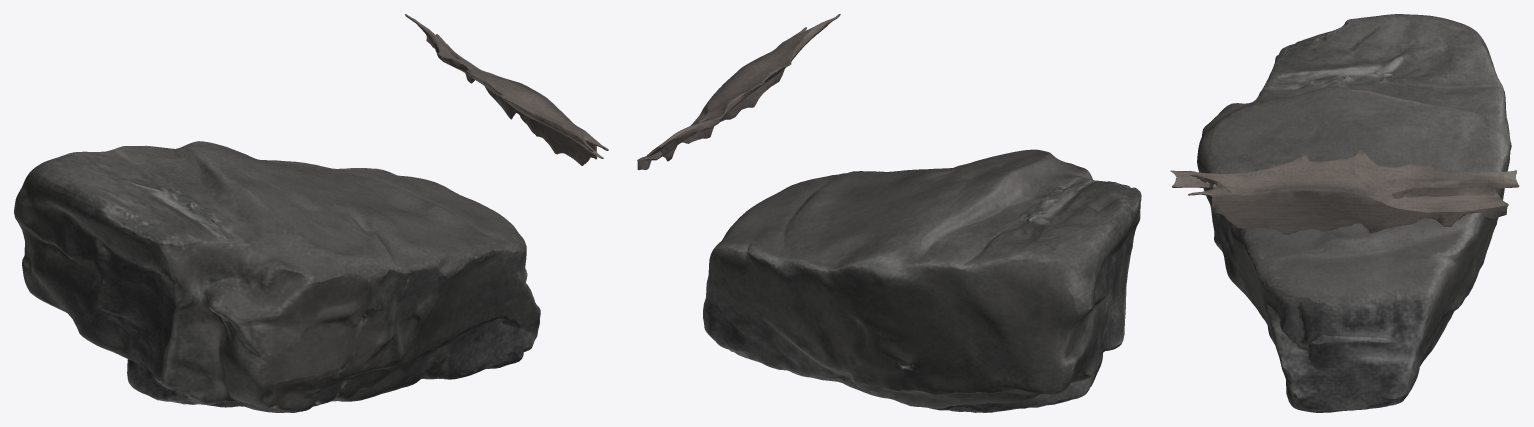
The model's file is tex_mesh.glb.
The picture shows the model from 3 angles, left to right: view 1: azimuth 30°, elevation 25°; view 2: azimuth 150°, elevation 25°; view 3: azimuth 270°, elevation 25°; orthographic projection. The views are drawn at different scales.
Parts seen in each view (by area): view 1: world; view 2: world; view 3: world.
Part boxes in pixels (<box>): world: <box>14,14,608,412</box>; world: <box>637,14,1141,412</box>; world: <box>1170,14,1519,412</box>.
Size of the model in its own units: 3.5 by 2.07 by 2.57.
1 material, 1 textured.
